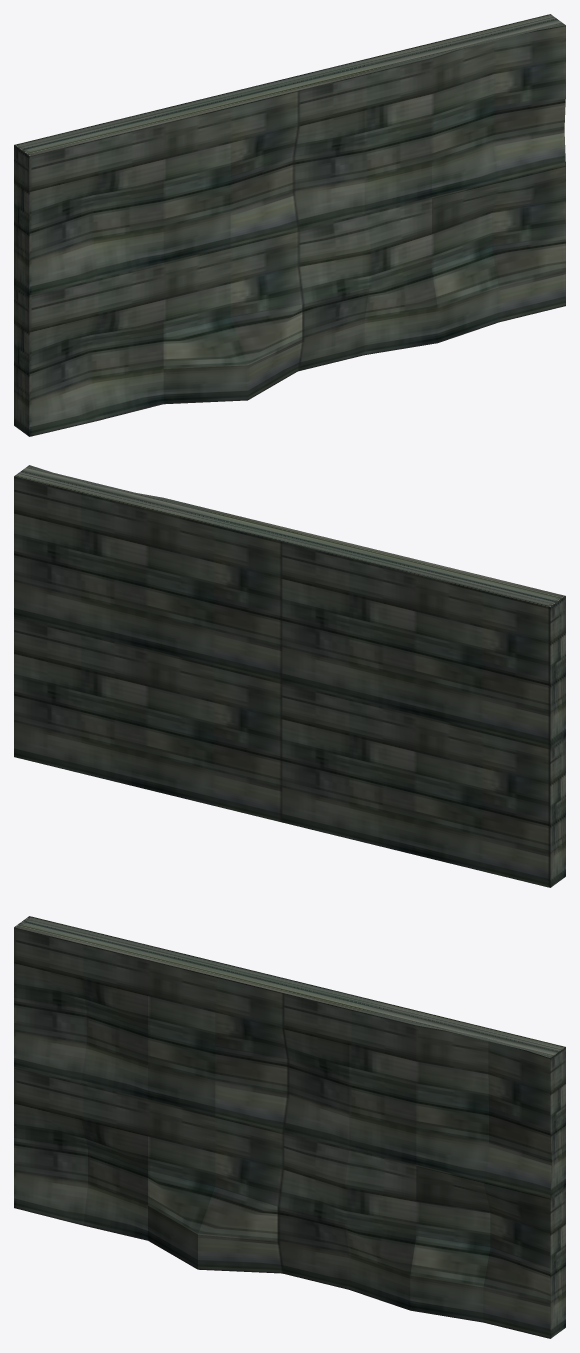
File: brick_wall01.fbx
The picture shows the model from 3 angles, top to bottom: view 1: azimuth 30°, elevation 25°; view 2: azimuth 150°, elevation 25°; view 3: azimuth 330°, elevation 25°; orthographic projection.
Visible parts, largest first — view 1: Cube.001; view 2: Cube.001; view 3: Cube.001.
Boxes of the visible parts, x1,y1,x2,y2 form: Cube.001: [14, 14, 565, 436]; Cube.001: [14, 465, 565, 887]; Cube.001: [14, 916, 565, 1338].
Size of the model in its own units: 4000 by 2008 by 422.
Materials: 1 (1 with a texture image).
